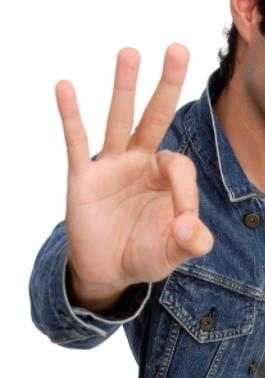left: (49, 40, 220, 292)
